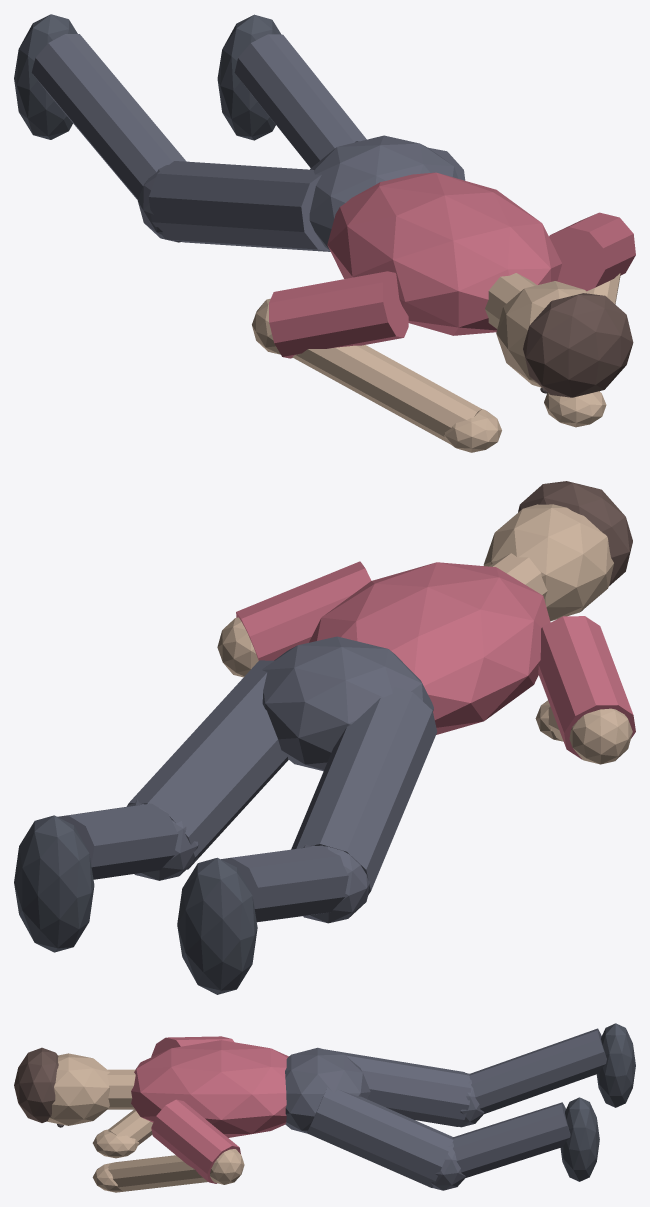
3 views of the same model, one above another, from view 1: azimuth 30°, elevation 25°; view 2: azimuth 150°, elevation 25°; view 3: azimuth 270°, elevation 25° (orthographic). The views are drawn at different scales.
Parts seen in each view (by area): view 1: world; view 2: world; view 3: world.
Boxes of the visible parts, <box> form: world: <box>14,14,635,452</box>; world: <box>14,481,635,994</box>; world: <box>14,1023,635,1192</box>.
Size of the model in its own units: 0.93 by 0.4362 by 2.
